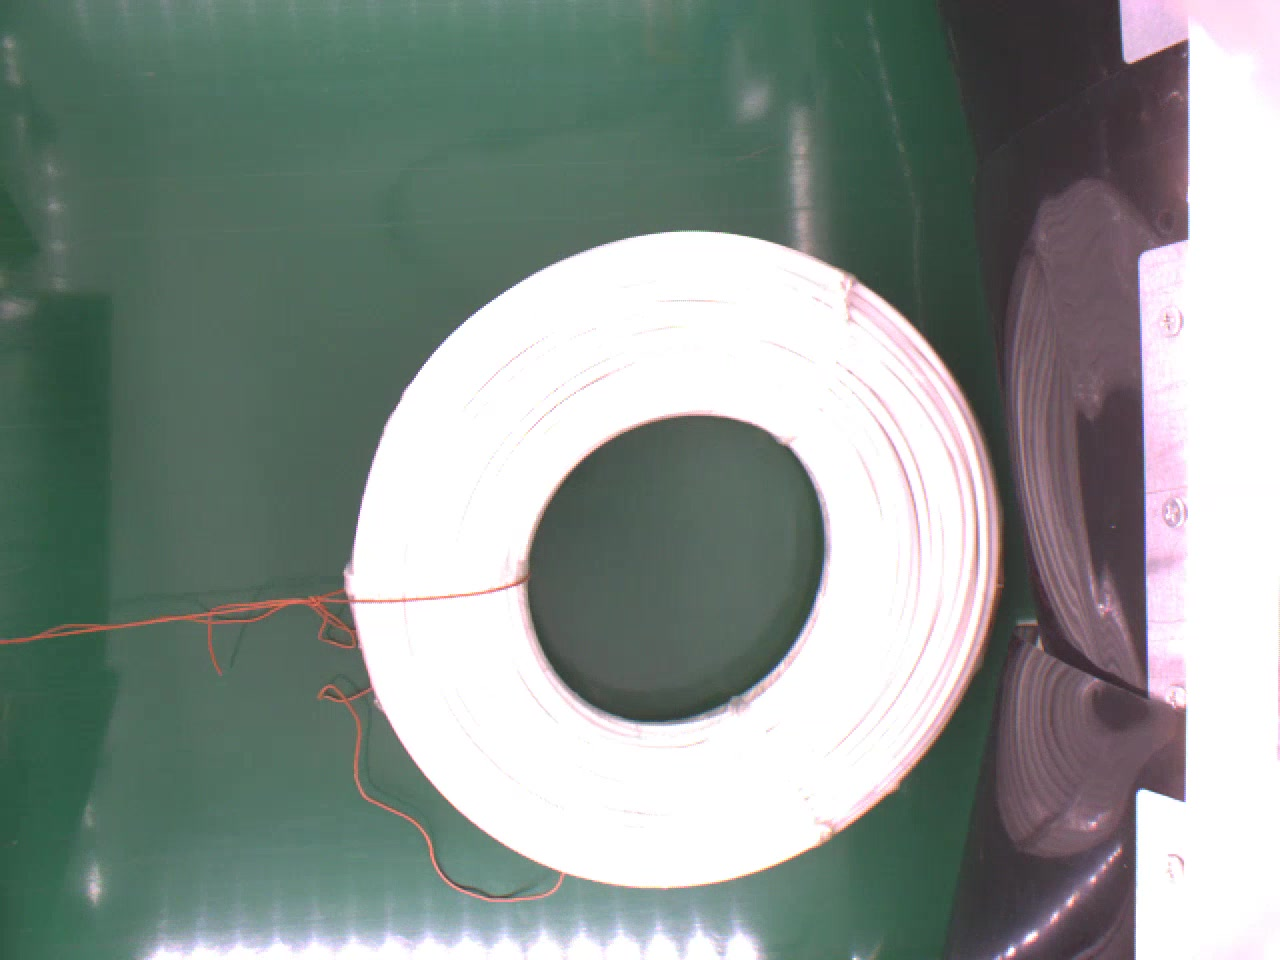white: (342, 225, 1001, 889)
